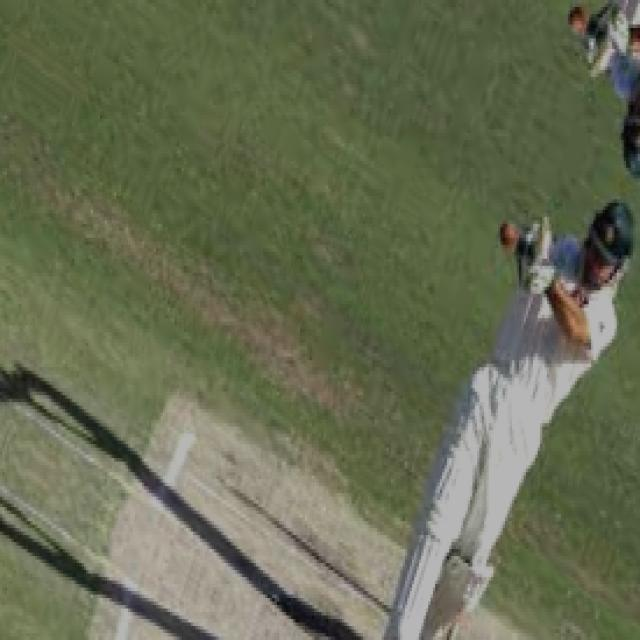toe: (525, 236, 558, 276)
